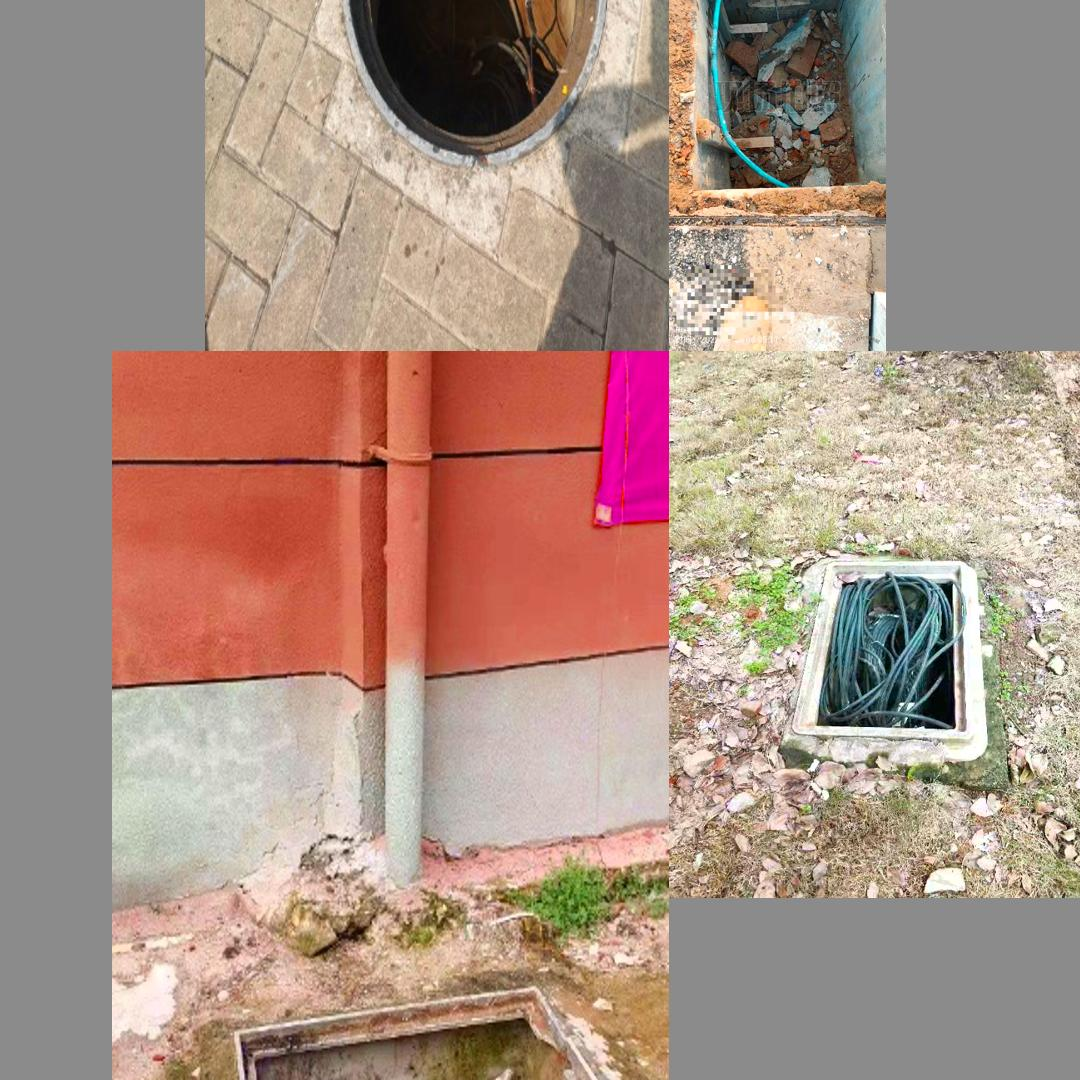lose: (671, 0, 885, 241), (341, 0, 609, 164), (230, 986, 614, 1080), (800, 552, 976, 748)
